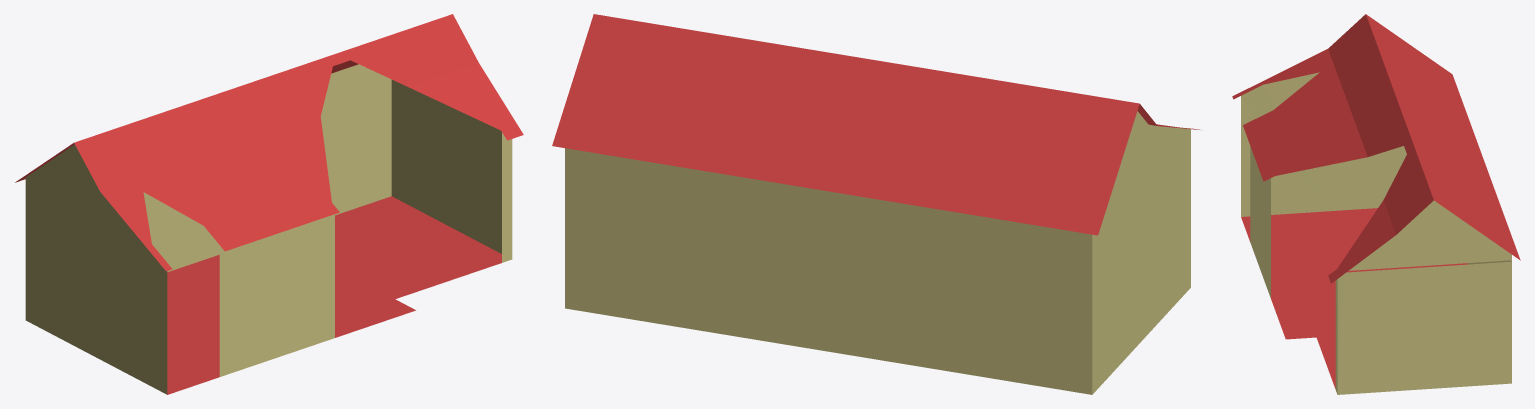
3 renders of one model, left to right at view 1: azimuth 30°, elevation 25°; view 2: azimuth 150°, elevation 25°; view 3: azimuth 270°, elevation 25°, orthographic. The views are drawn at different scales.
Bounding box in the file's own units: 30.7 × 18.84 × 13.8.
